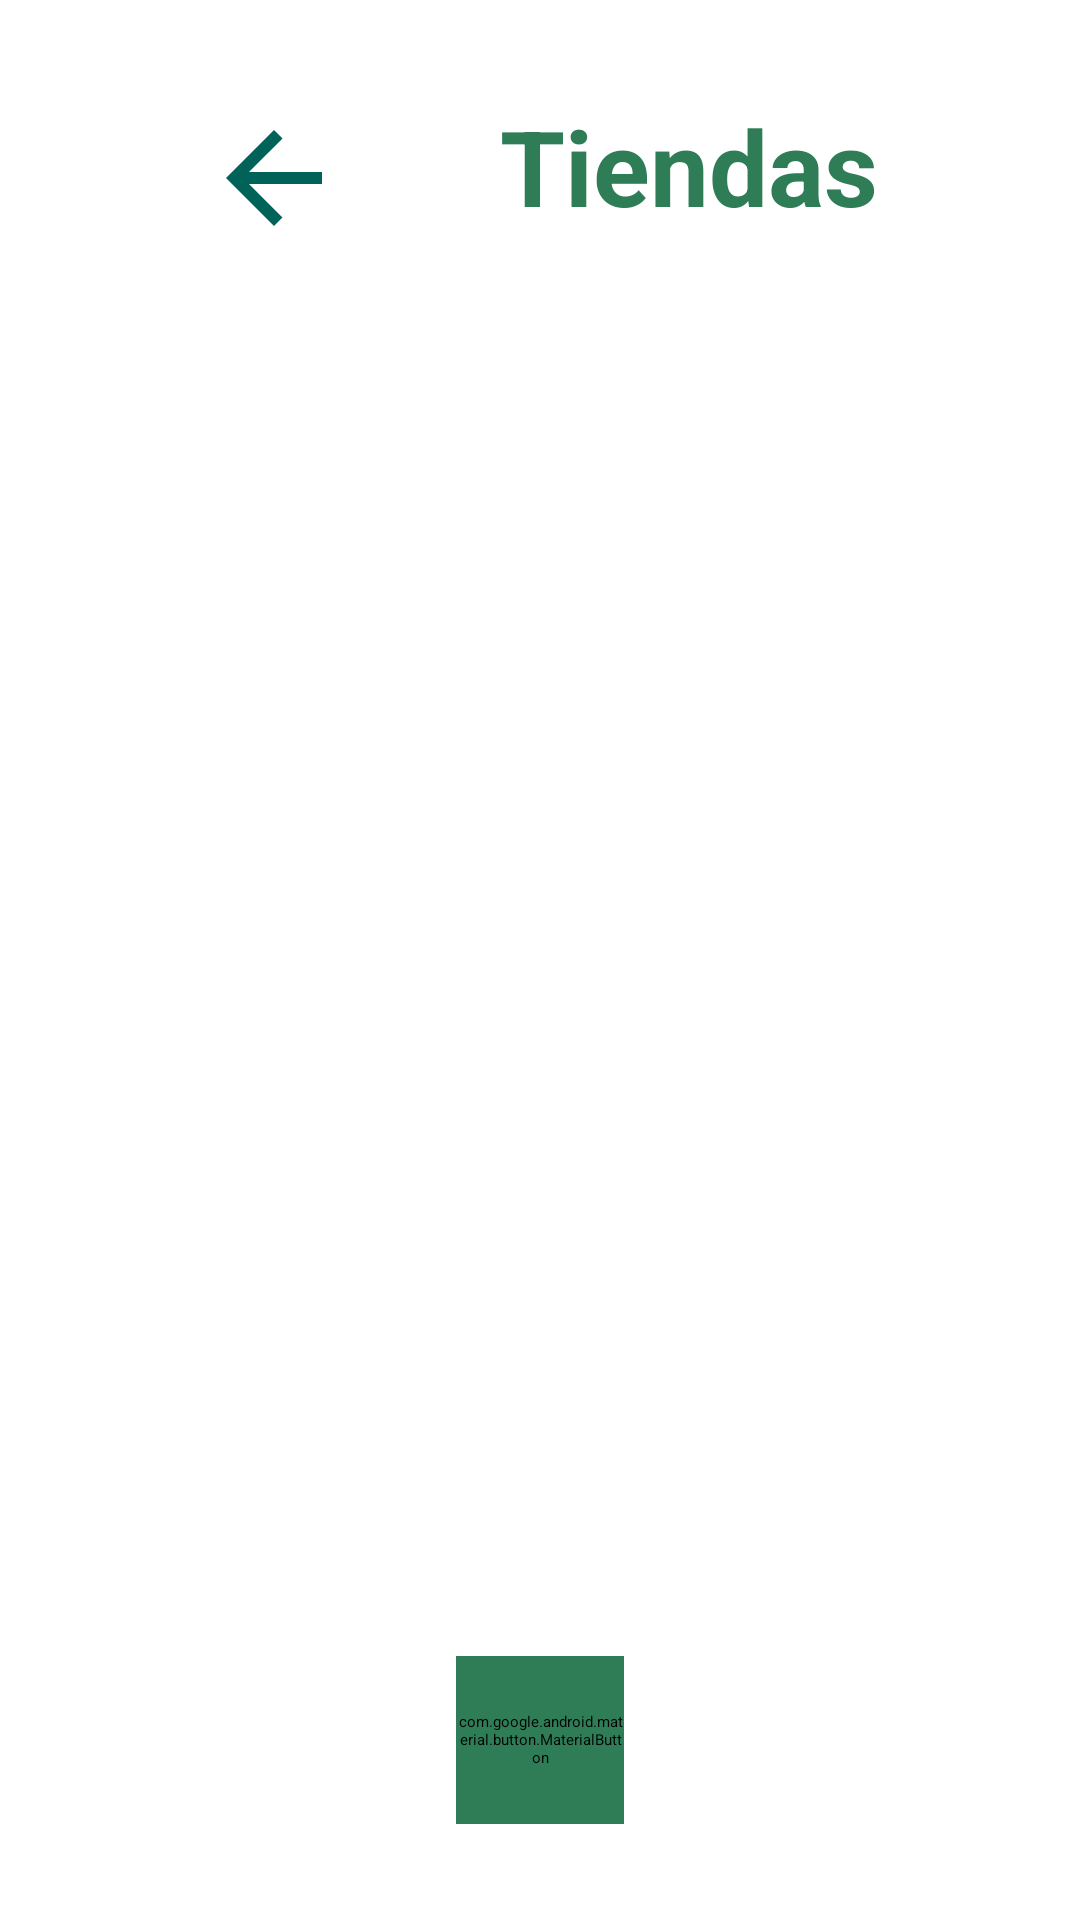

Where to tap for icons on this 1080 x 1920 app screen, as (x=x, y=y):
arrow back: (x=274, y=178)
